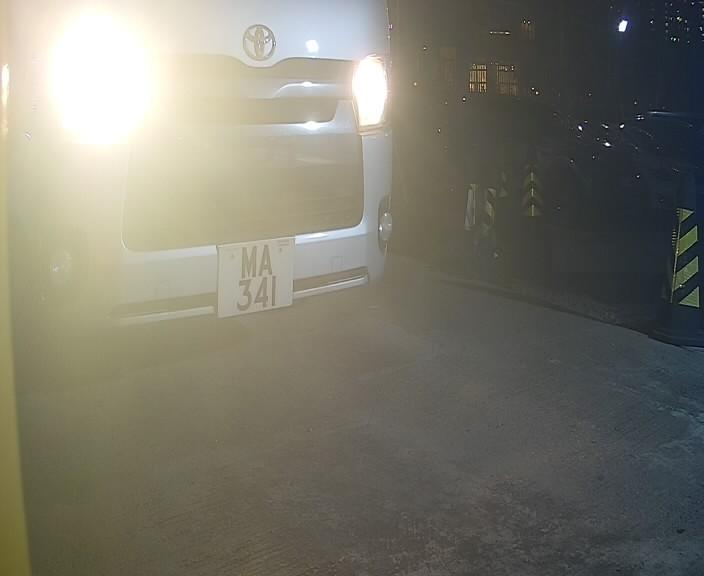License Plate: (203, 220, 313, 329)
